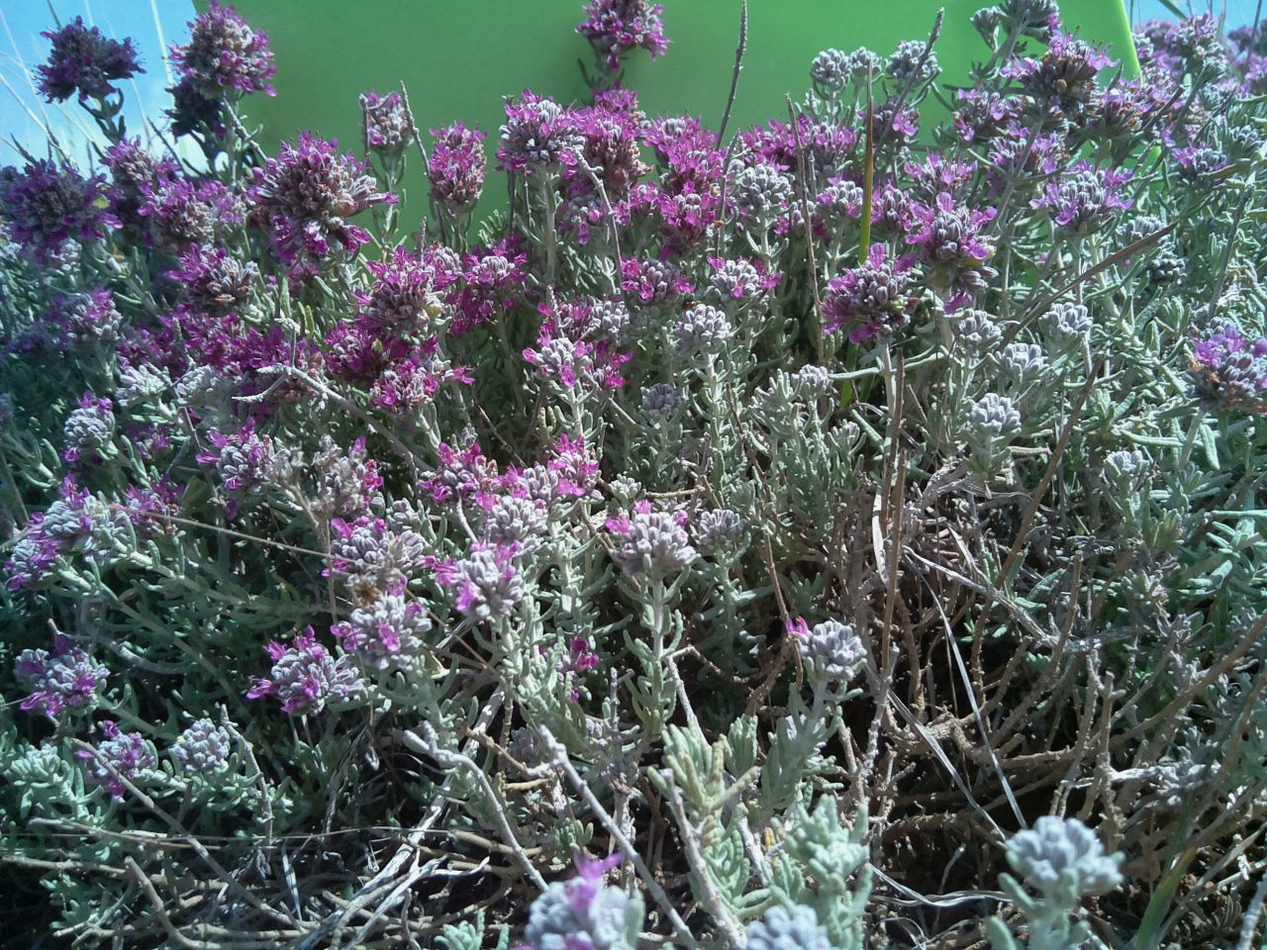Beetle: (671, 293, 702, 317)
